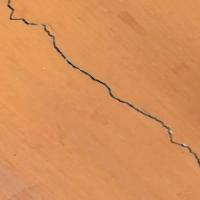crack: (1, 0, 199, 187)
